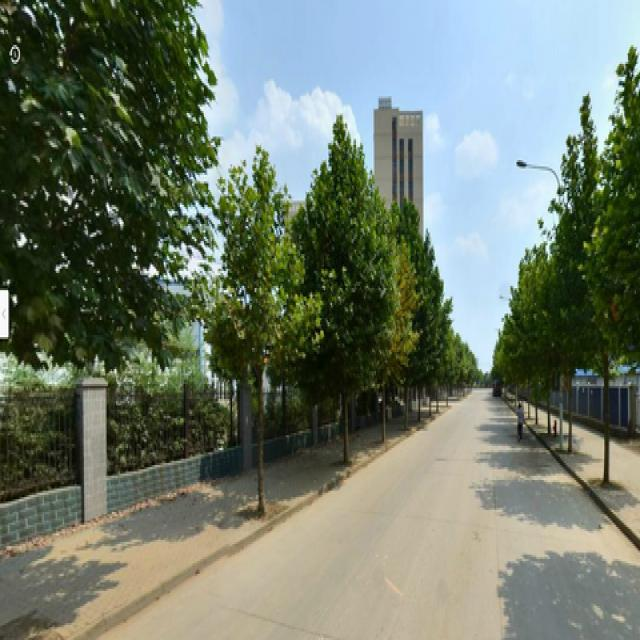meta: (223, 167, 297, 520), (554, 181, 626, 480), (315, 154, 373, 467)
